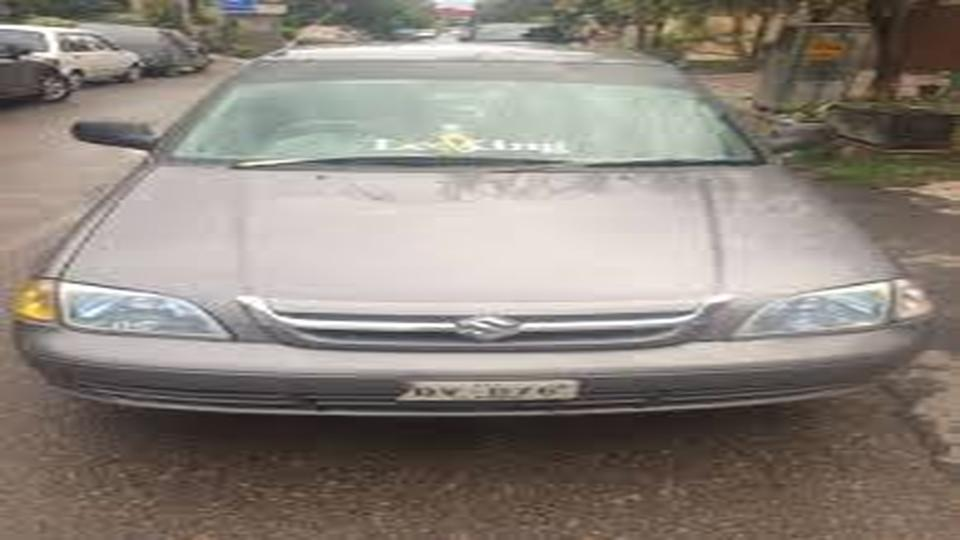NumberPlate: (400, 374, 596, 416)
